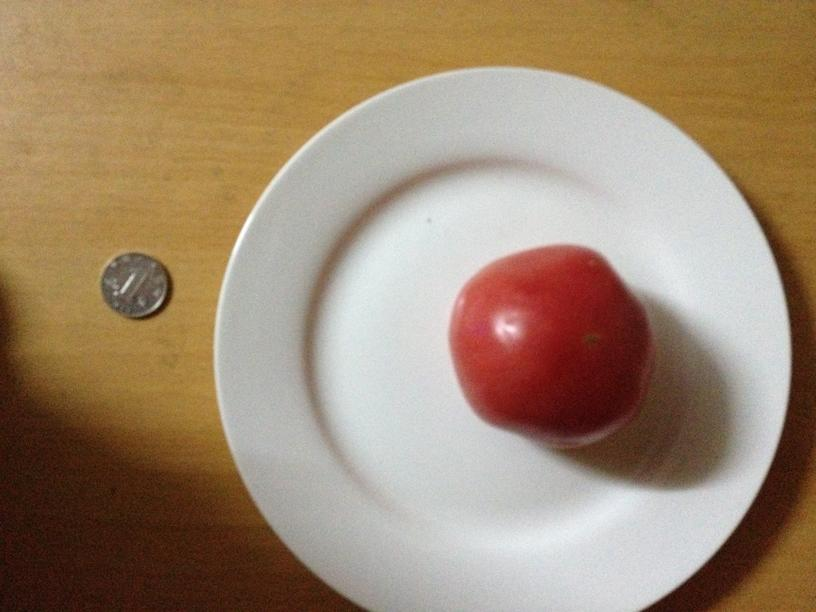coin: (99, 251, 171, 318)
tomato: (447, 244, 655, 448)
